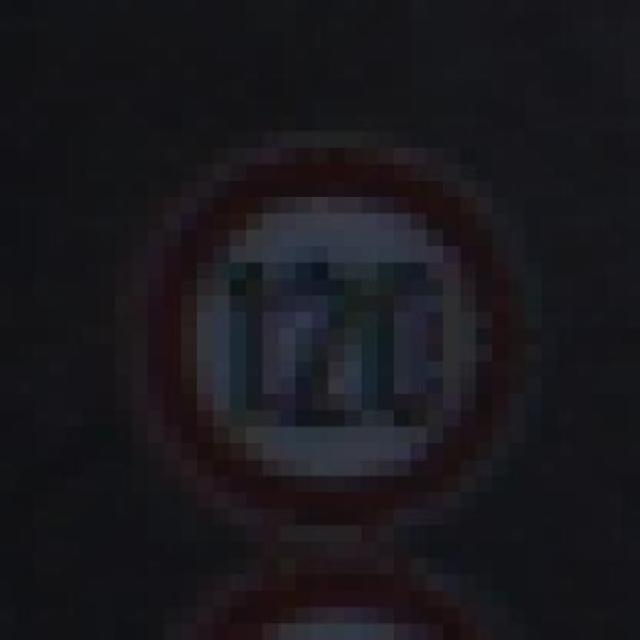forb_speed_over_120: (149, 151, 514, 528)
